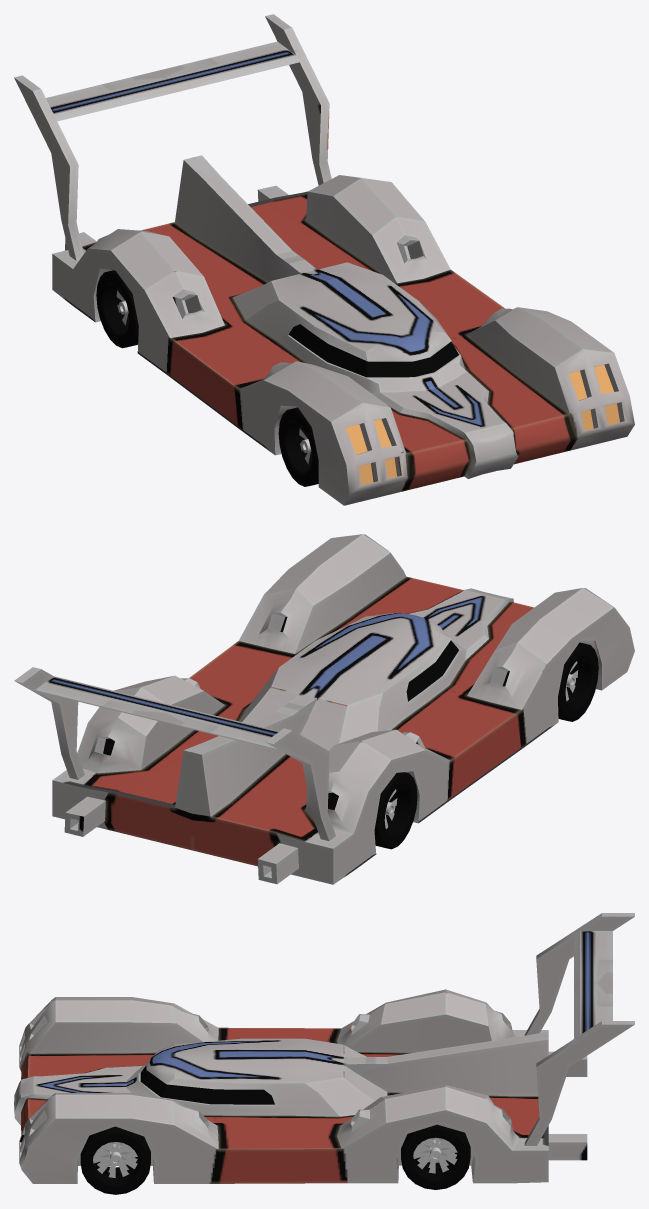
Rendered from Car 1.fbx.
3 renders of one model, top to bottom at view 1: azimuth 30°, elevation 25°; view 2: azimuth 150°, elevation 25°; view 3: azimuth 270°, elevation 25°, orthographic. The views are drawn at different scales.
Visible parts, largest first — view 1: Ver 1, Cylinder, Cylinder.001; view 2: Ver 1, Cylinder, Cylinder.001; view 3: Ver 1, Cylinder.001, Cylinder.
Boxes of the visible parts, box(x1,y1,x2,y2) form: Ver 1: box(14, 14, 634, 505); Cylinder: box(96, 270, 138, 348); Cylinder.001: box(278, 407, 318, 486); Ver 1: box(14, 534, 634, 884); Cylinder: box(374, 772, 417, 849); Cylinder.001: box(558, 642, 598, 721); Ver 1: box(14, 913, 634, 1183); Cylinder.001: box(80, 1126, 150, 1194); Cylinder: box(401, 1124, 470, 1189).
Bounding box in the file's own units: 3.17 × 2 × 6.78.
